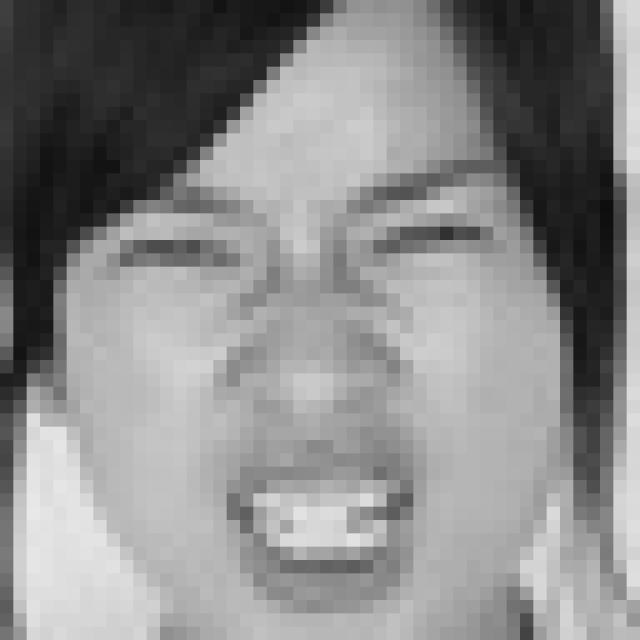angry: (108, 150, 507, 616)
